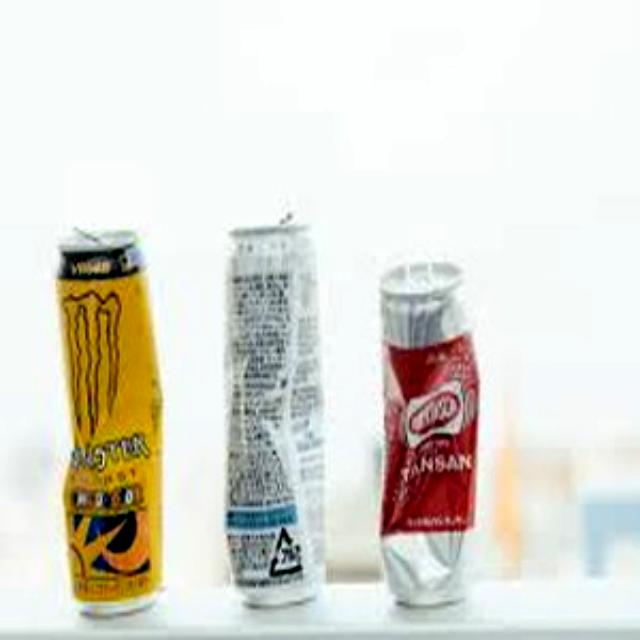Metal: (54, 222, 170, 620), (222, 214, 334, 616), (371, 257, 482, 608)
